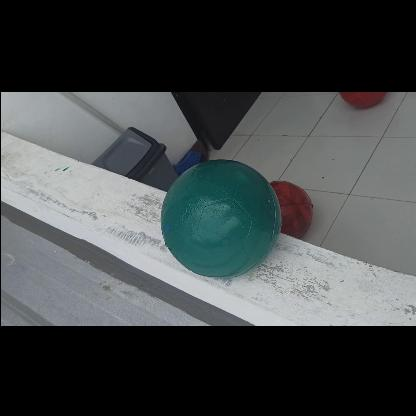green_ball: (160, 158, 278, 278)
